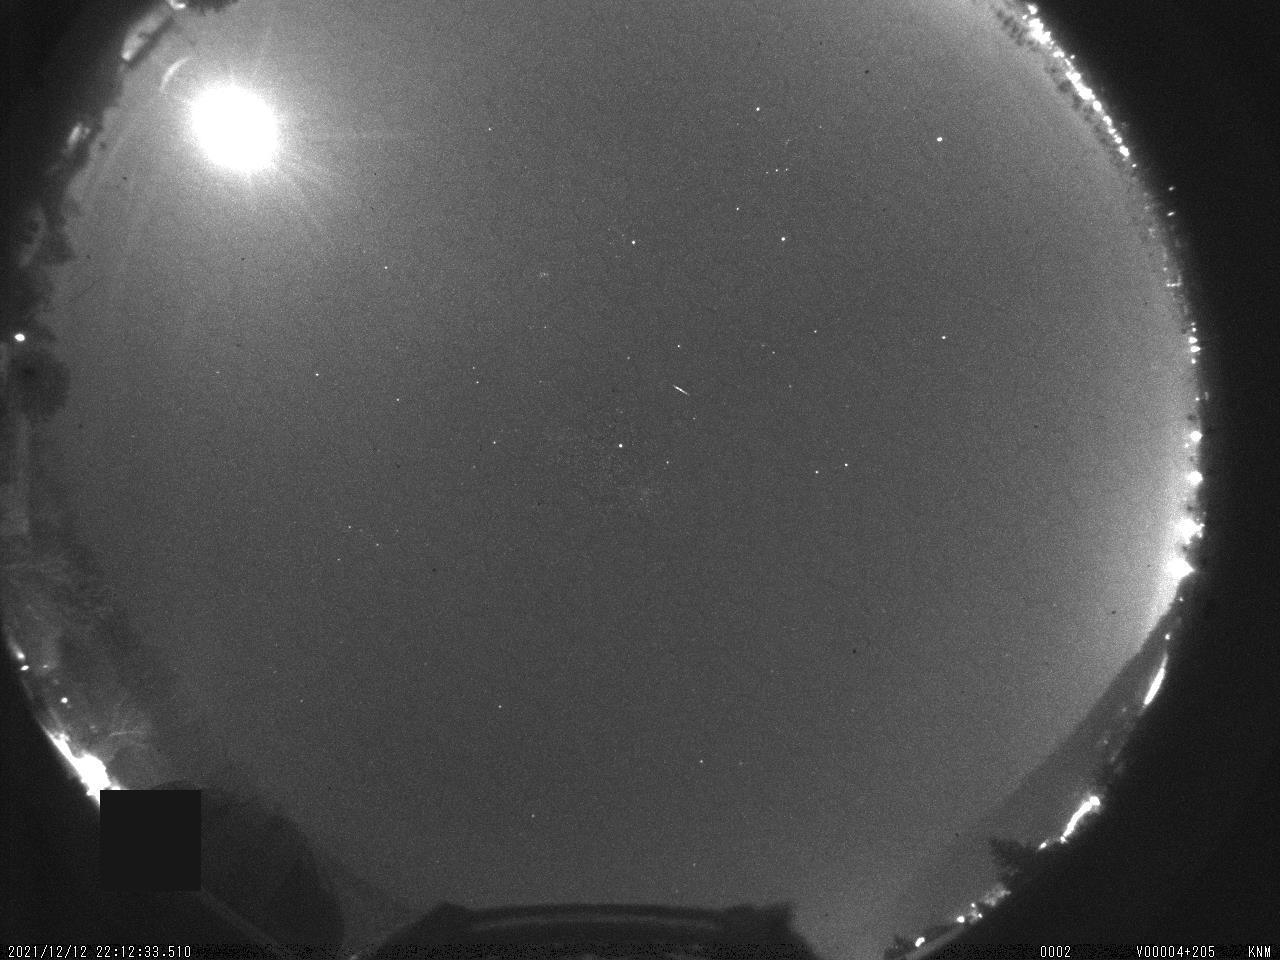Meteor: (668, 380, 694, 399)
